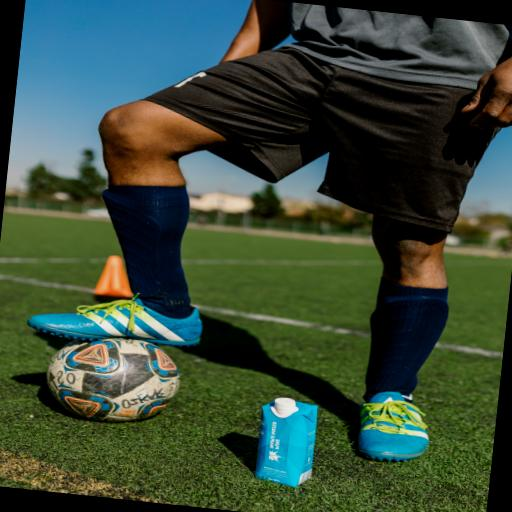shoe: (27, 298, 201, 346), (357, 392, 428, 461)
